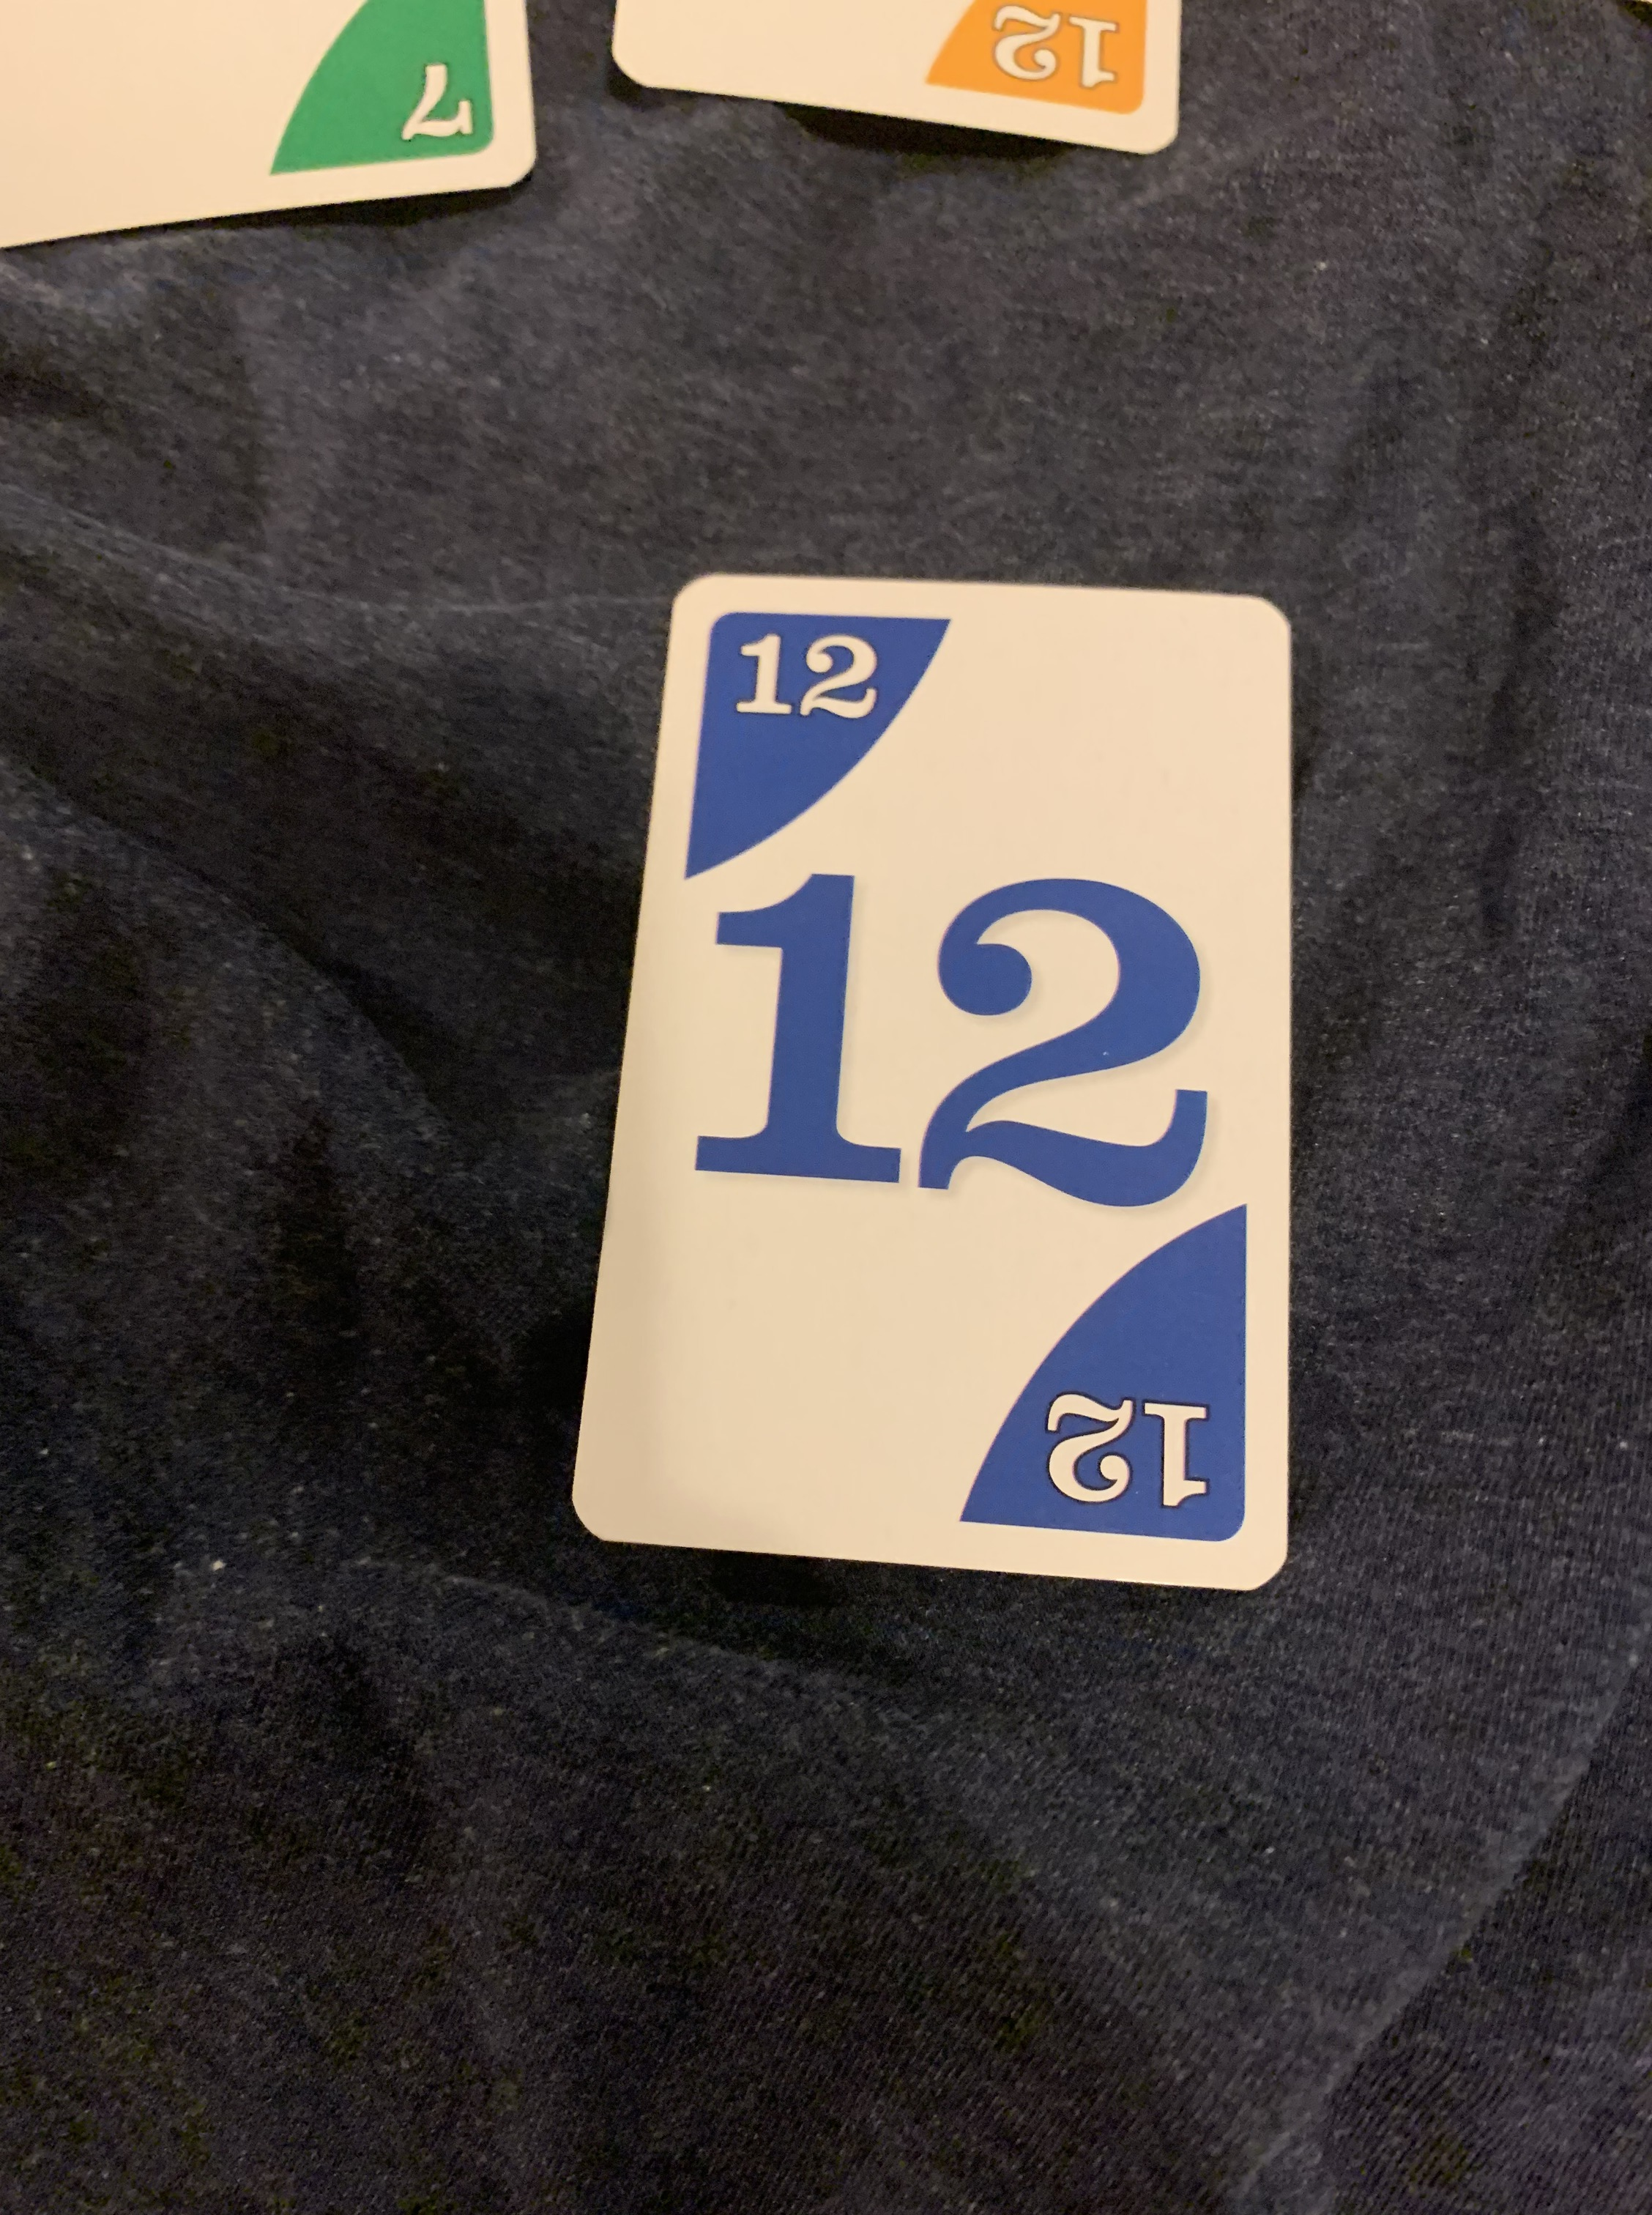twelve: (592, 549, 1310, 1609)
